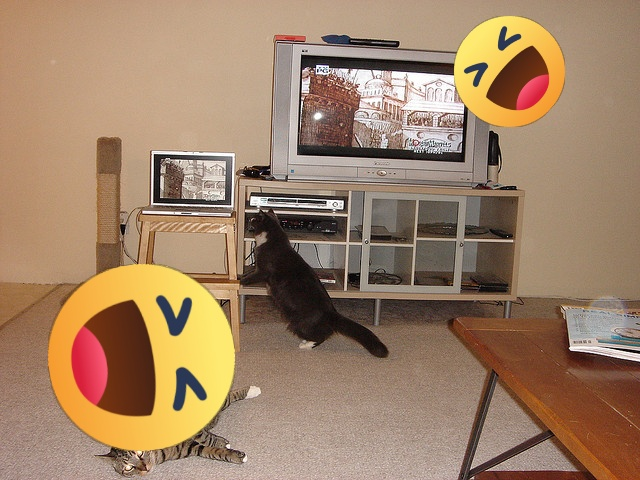haha: (48, 264, 235, 451), (454, 16, 565, 127)
